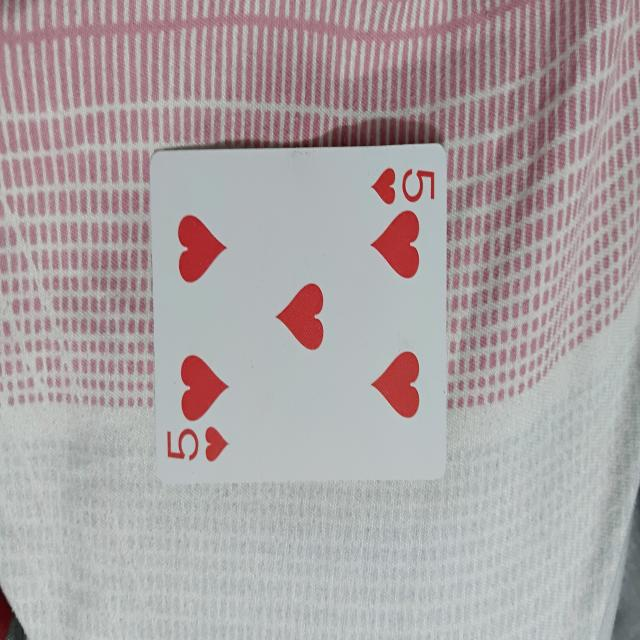5H: (149, 144, 447, 484)
